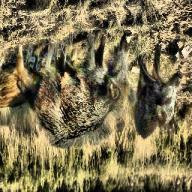boar: (28, 30, 133, 147)
